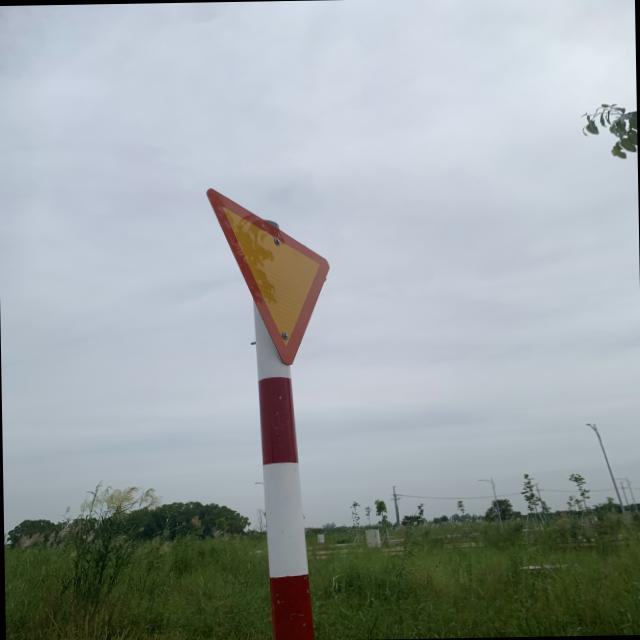Gioi_Han_Toc_Do_25: (206, 186, 333, 367)
